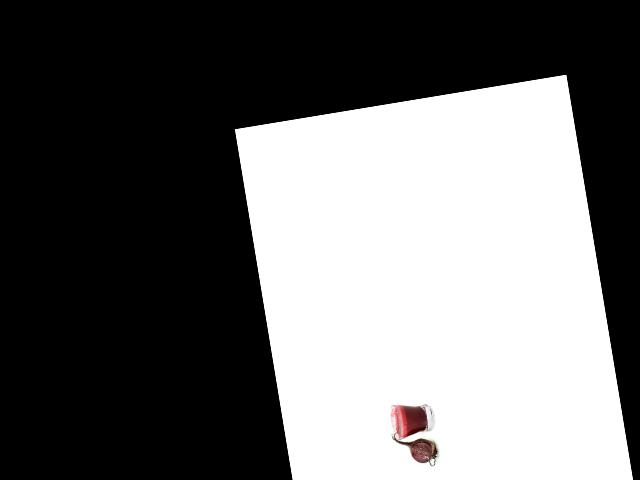beet: (390, 421, 440, 471)
